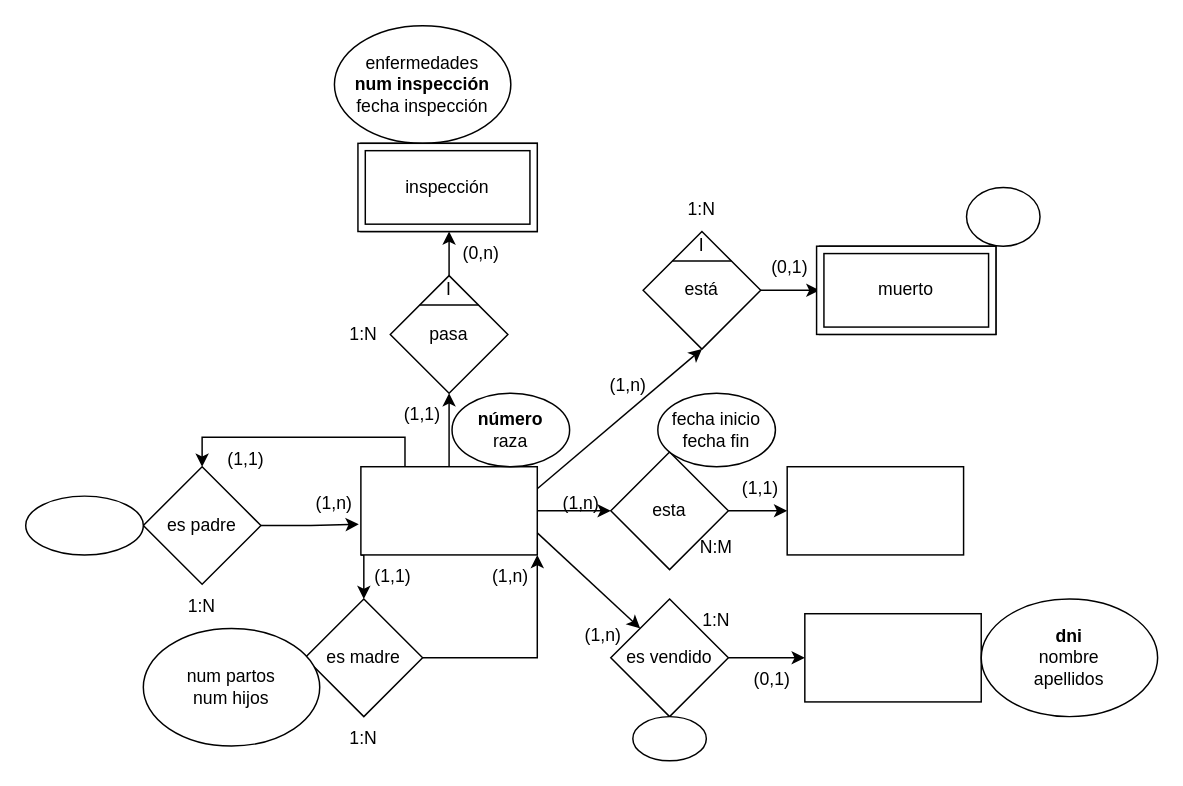
Some shapes in this 1183 by 786 pixel diagram are drawn without their labels. The centre of each missing label's shape, as x and y in pixels:
causa: the point at 1002,216
comprador: the point at 892,657
finca: the point at 875,510
ganado: the point at 448,510
importe: the point at 668,738
num cubri: the point at 83,525
